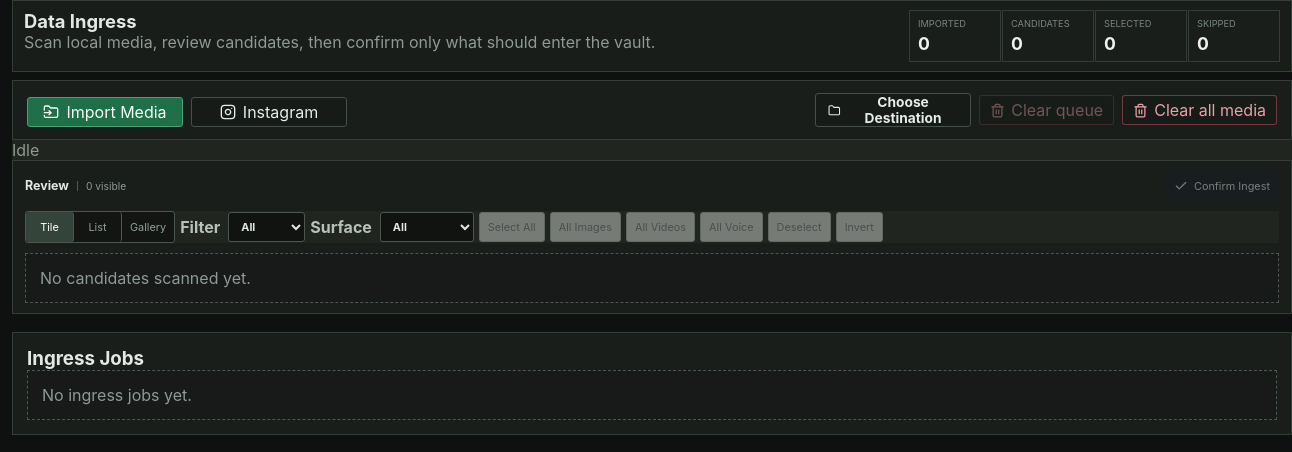
Scenario: DataIngressTab › handles canceled browser destination selection without a native picker error
This screenshot has width=1292, height=452.
Click the button "Choose Destination": {"x": 893, "y": 110} [815,93,971,127]
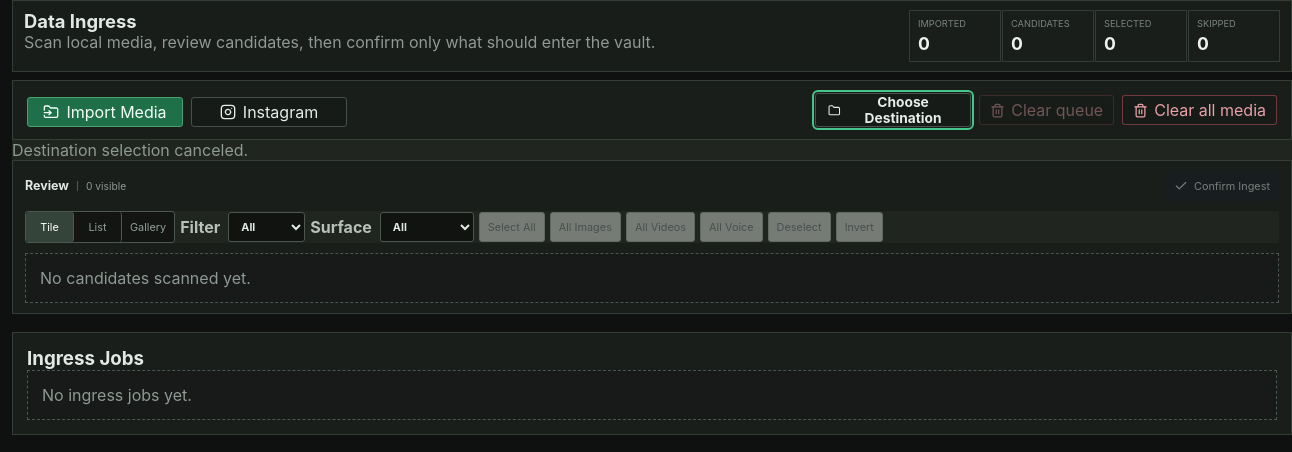
Expected: the text "Destination selection canceled." is shown, [12,140,248,160]
